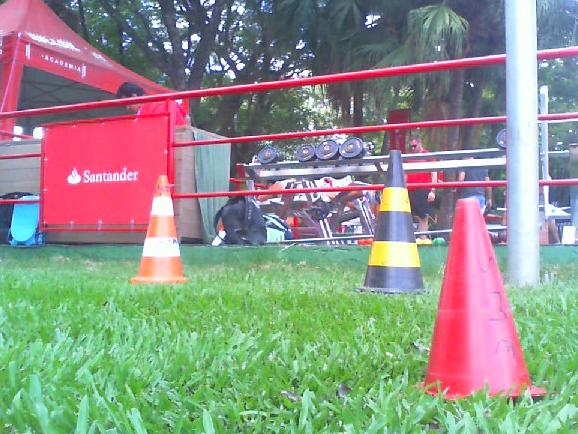0 cone: (421, 197, 546, 402), (356, 149, 427, 296), (130, 174, 189, 284)
